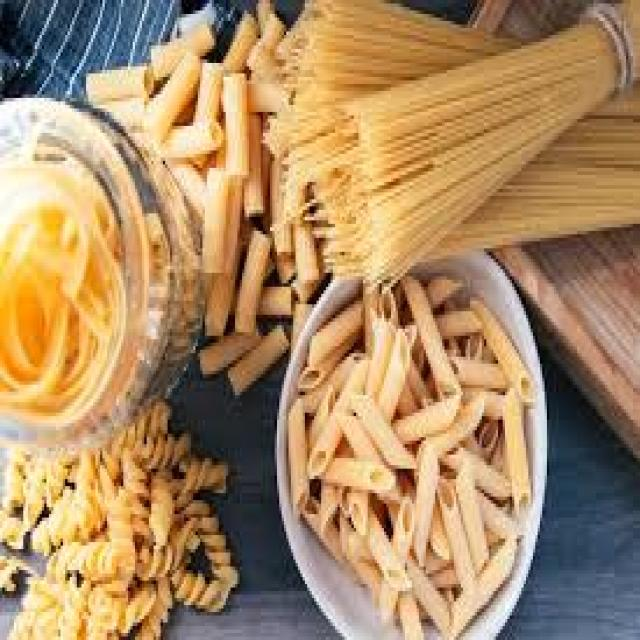Pasta: (275, 2, 640, 258), (338, 6, 636, 298), (77, 21, 314, 371), (308, 288, 513, 631), (0, 440, 249, 630)
